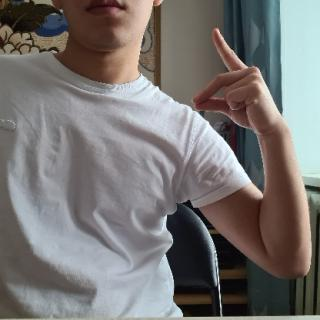TAA: (188, 25, 289, 141)
